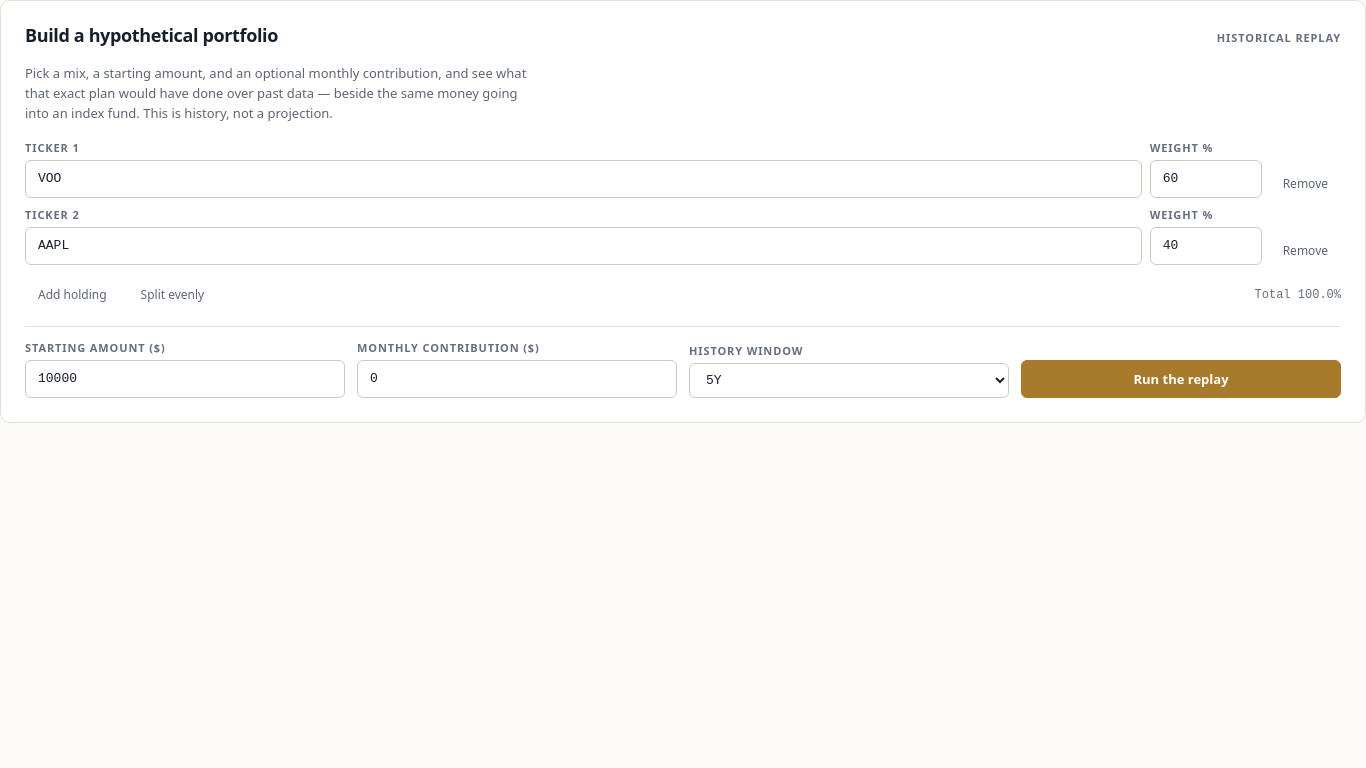
PortfolioBuilder › shows portfolio and benchmark side by side
Click the button "Run the replay": (1181, 379) [1021,360,1341,398]
(page scrolled)
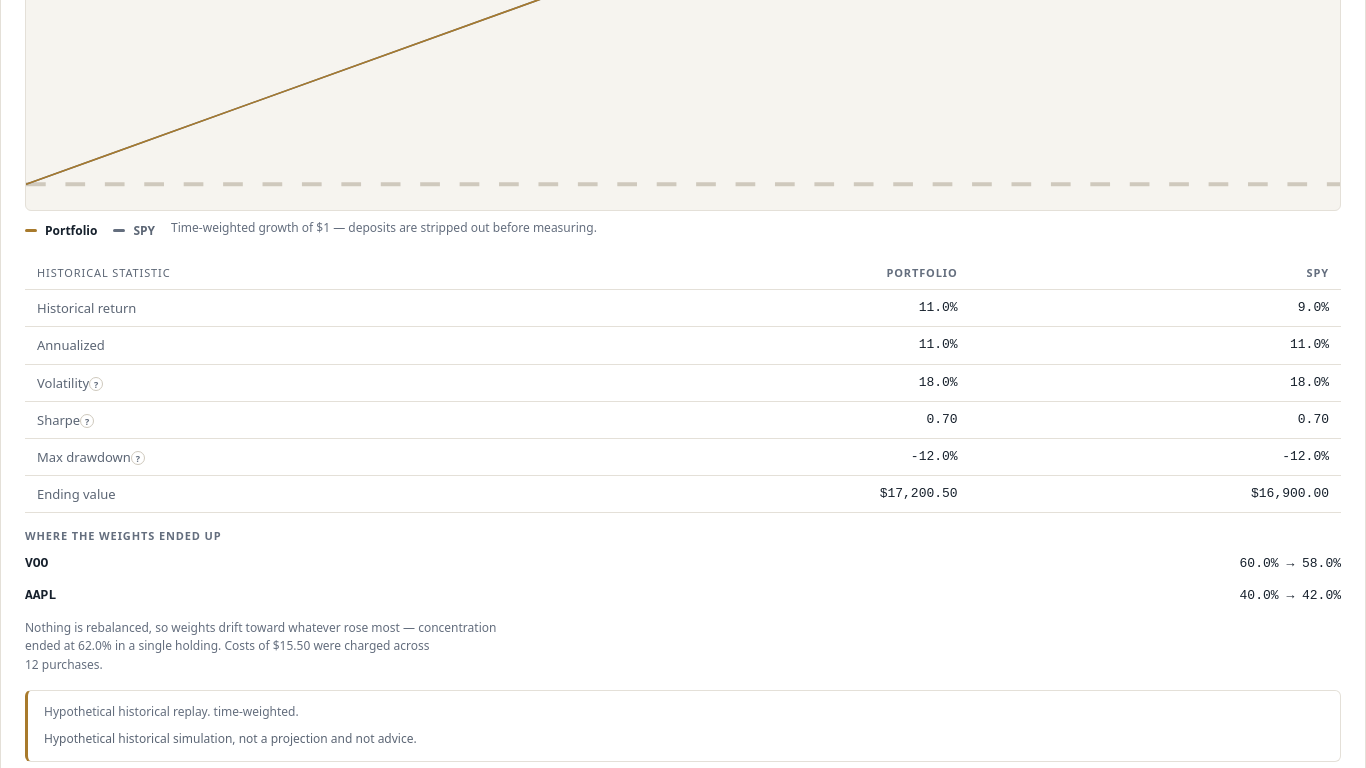
Expected: the table shows "Portfolio", [886,265,958,280]
Expected: the table shows "SPY", [1306,265,1329,280]
Expected: the table shows "Max drawdown", [37,448,131,466]
